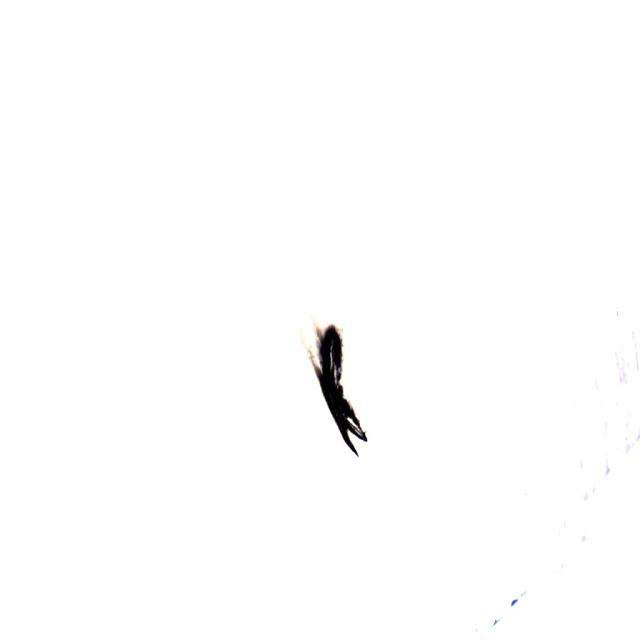crack: (304, 319, 375, 457)
